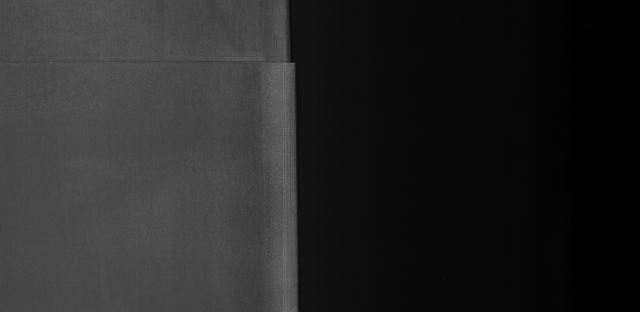welding_line: (1, 51, 318, 74)
